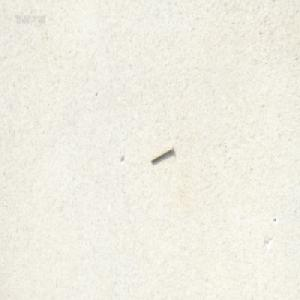Bolt: (149, 144, 173, 164)
